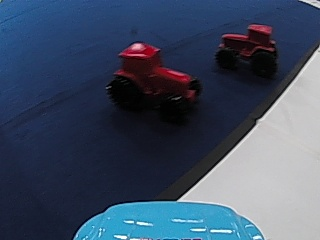tractor: (106, 39, 202, 114), (215, 20, 280, 78)
